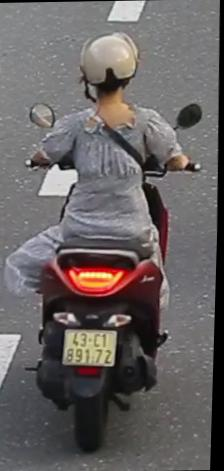LP: (63, 326, 122, 370)
helmet: (78, 24, 144, 116)
